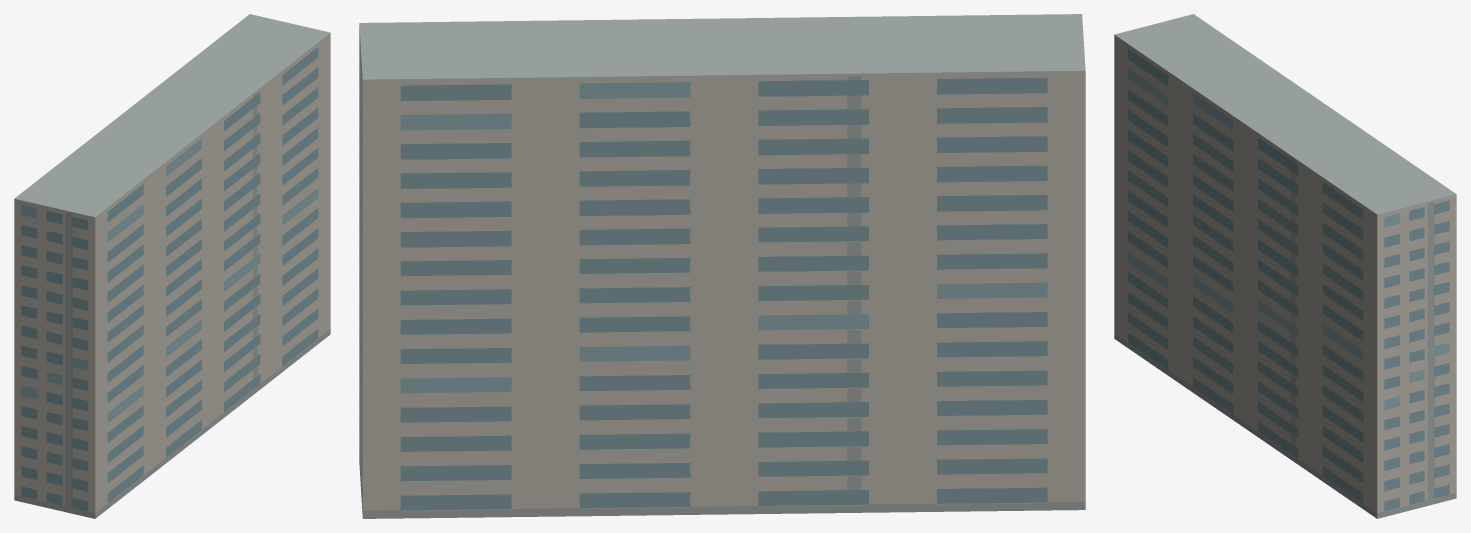
Rendered from residential-dd8c8061-f9cf-4d63-8c63-a2cd5fd1d2c7.glb.
3 views of the same model, side by side, from view 1: azimuth 30°, elevation 25°; view 2: azimuth 150°, elevation 25°; view 3: azimuth 270°, elevation 25° (orthographic). The views are drawn at different scales.
Visible parts, largest first — view 1: residential-dd8c8061-f9cf-4d63-8c63-a2cd5fd1d2c7.tmp; view 2: residential-dd8c8061-f9cf-4d63-8c63-a2cd5fd1d2c7.tmp; view 3: residential-dd8c8061-f9cf-4d63-8c63-a2cd5fd1d2c7.tmp.
Boxes of the visible parts, x1,y1,x2,y2 form: residential-dd8c8061-f9cf-4d63-8c63-a2cd5fd1d2c7.tmp: (14,14,330,518); residential-dd8c8061-f9cf-4d63-8c63-a2cd5fd1d2c7.tmp: (359,14,1085,518); residential-dd8c8061-f9cf-4d63-8c63-a2cd5fd1d2c7.tmp: (1114,14,1456,518).
Bounding box in the file's own units: 59.4 × 42 × 42.82.
